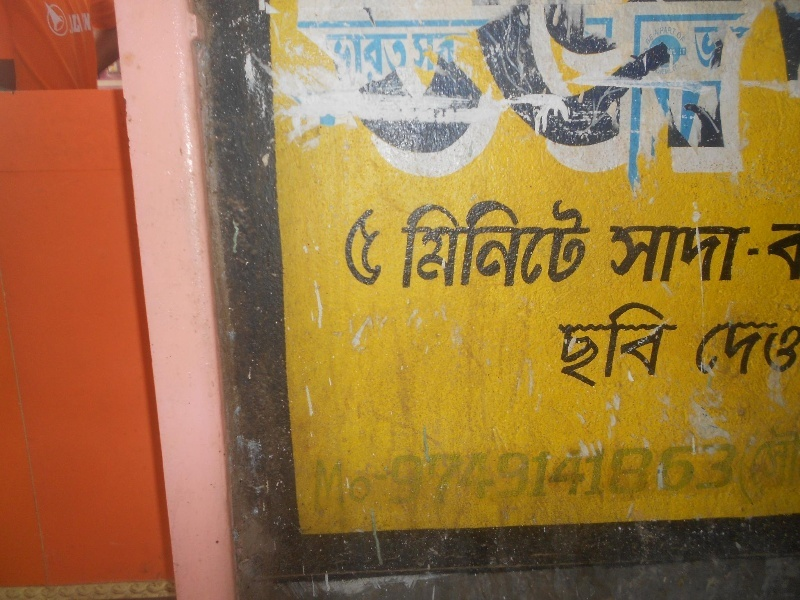text: (577, 197, 593, 289), (401, 197, 416, 289), (417, 197, 432, 289), (433, 197, 448, 289), (449, 197, 464, 289), (465, 197, 480, 289), (481, 197, 496, 289), (497, 197, 512, 289), (513, 197, 528, 289), (529, 197, 544, 289), (545, 197, 560, 289), (561, 197, 576, 289), (561, 303, 576, 387), (577, 303, 592, 387), (593, 303, 608, 387), (609, 303, 624, 387), (625, 303, 640, 387), (641, 303, 656, 387), (657, 303, 672, 387), (753, 422, 768, 505), (769, 422, 784, 505), (785, 422, 800, 505), (353, 209, 368, 287), (369, 209, 384, 287), (739, 422, 752, 505), (769, 219, 784, 283), (785, 219, 800, 283), (625, 223, 640, 284), (641, 223, 656, 284), (657, 223, 672, 284), (673, 223, 688, 284), (689, 223, 704, 284), (705, 223, 720, 284), (721, 223, 736, 284), (737, 223, 752, 284), (321, 445, 336, 503), (337, 445, 352, 503), (353, 445, 368, 503), (369, 445, 384, 503), (385, 445, 400, 503), (401, 445, 416, 503), (417, 445, 432, 503), (433, 445, 448, 503), (449, 445, 464, 503), (465, 445, 480, 503), (481, 445, 496, 503), (497, 445, 512, 503), (513, 445, 528, 503), (529, 445, 544, 503), (545, 445, 560, 503), (561, 445, 576, 503), (577, 445, 592, 503), (593, 445, 608, 503), (609, 445, 624, 503), (625, 445, 640, 503), (641, 445, 656, 503), (657, 445, 672, 503), (673, 445, 688, 503), (689, 445, 704, 503), (705, 445, 720, 503), (721, 445, 736, 503), (610, 223, 624, 284), (705, 320, 720, 376), (721, 320, 736, 376), (737, 320, 752, 376), (753, 320, 768, 376), (769, 320, 784, 376), (785, 320, 800, 376), (337, 36, 352, 85), (353, 36, 368, 85), (369, 36, 384, 85), (385, 36, 400, 85), (401, 36, 416, 85), (673, 303, 680, 387), (417, 32, 432, 71), (433, 32, 448, 71), (705, 27, 719, 68), (346, 209, 352, 287), (696, 320, 704, 376), (327, 36, 336, 85), (753, 223, 760, 284), (694, 27, 704, 68), (313, 445, 320, 503), (449, 32, 458, 71), (68, 13, 80, 34), (81, 13, 93, 34), (557, 303, 560, 387), (657, 65, 672, 76), (413, 32, 416, 71), (646, 34, 656, 45), (661, 27, 672, 36), (677, 33, 688, 42), (680, 48, 688, 55), (673, 65, 678, 76), (673, 27, 677, 36), (654, 30, 656, 37), (657, 30, 659, 37)
